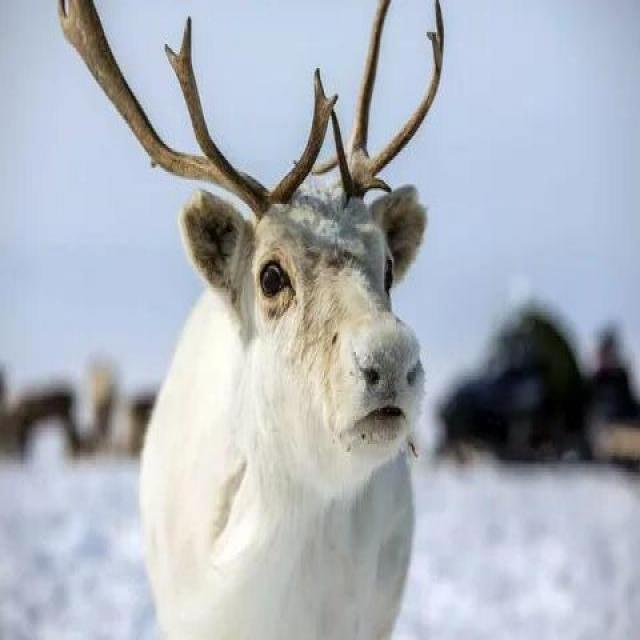deer: (83, 56, 449, 640)
